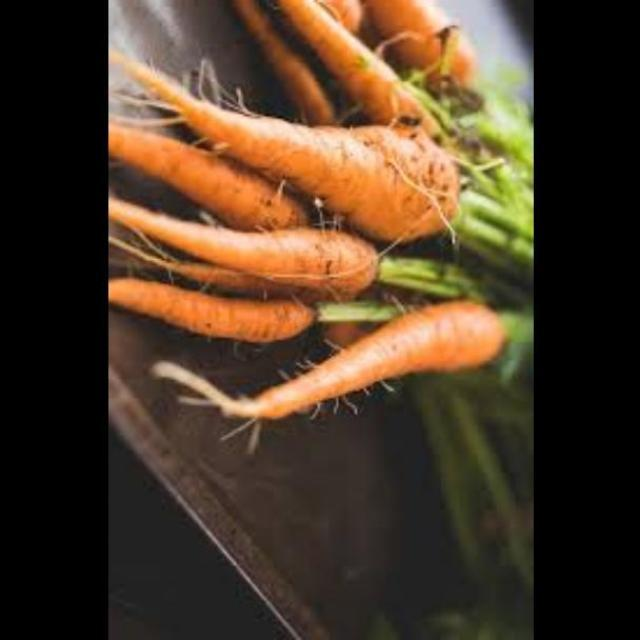Carrot: (117, 64, 460, 255), (205, 322, 523, 427), (248, 0, 488, 136), (108, 190, 380, 308), (108, 98, 310, 244), (110, 265, 326, 358)
